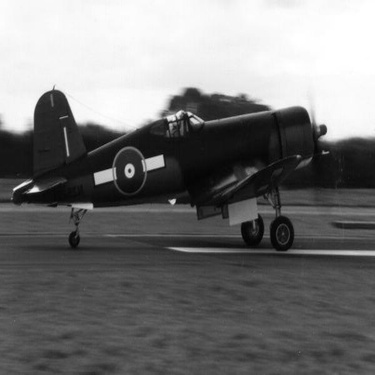airplane: (5, 69, 345, 271)
